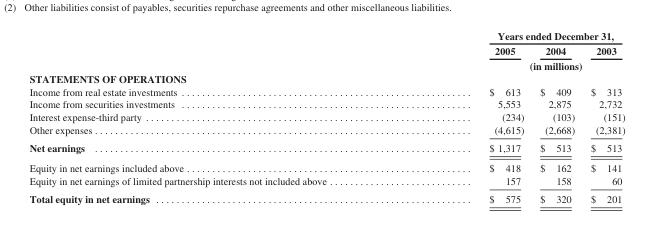table: (28, 29, 624, 204)
table column: (28, 29, 407, 204), (407, 29, 531, 204), (531, 29, 582, 204), (582, 29, 624, 204)
table column header: (28, 29, 624, 71)
table projected row header: (28, 71, 624, 84)
table row: (28, 138, 624, 157), (28, 157, 624, 174), (28, 42, 624, 57), (28, 123, 624, 138), (28, 174, 624, 189), (28, 189, 624, 204), (28, 57, 624, 71), (28, 29, 624, 42), (28, 71, 624, 84), (28, 84, 624, 97), (28, 97, 624, 110), (28, 110, 624, 123)
table spanning cell: (407, 57, 624, 71), (407, 29, 624, 42)
